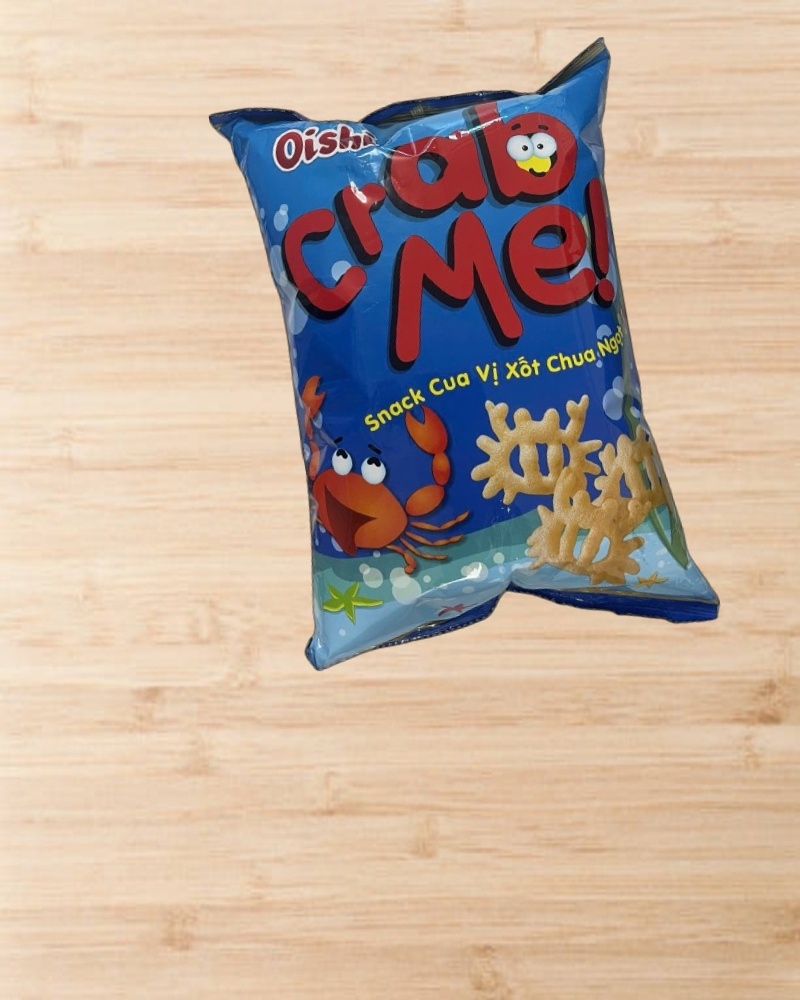Snack chay: (208, 35, 723, 693)
